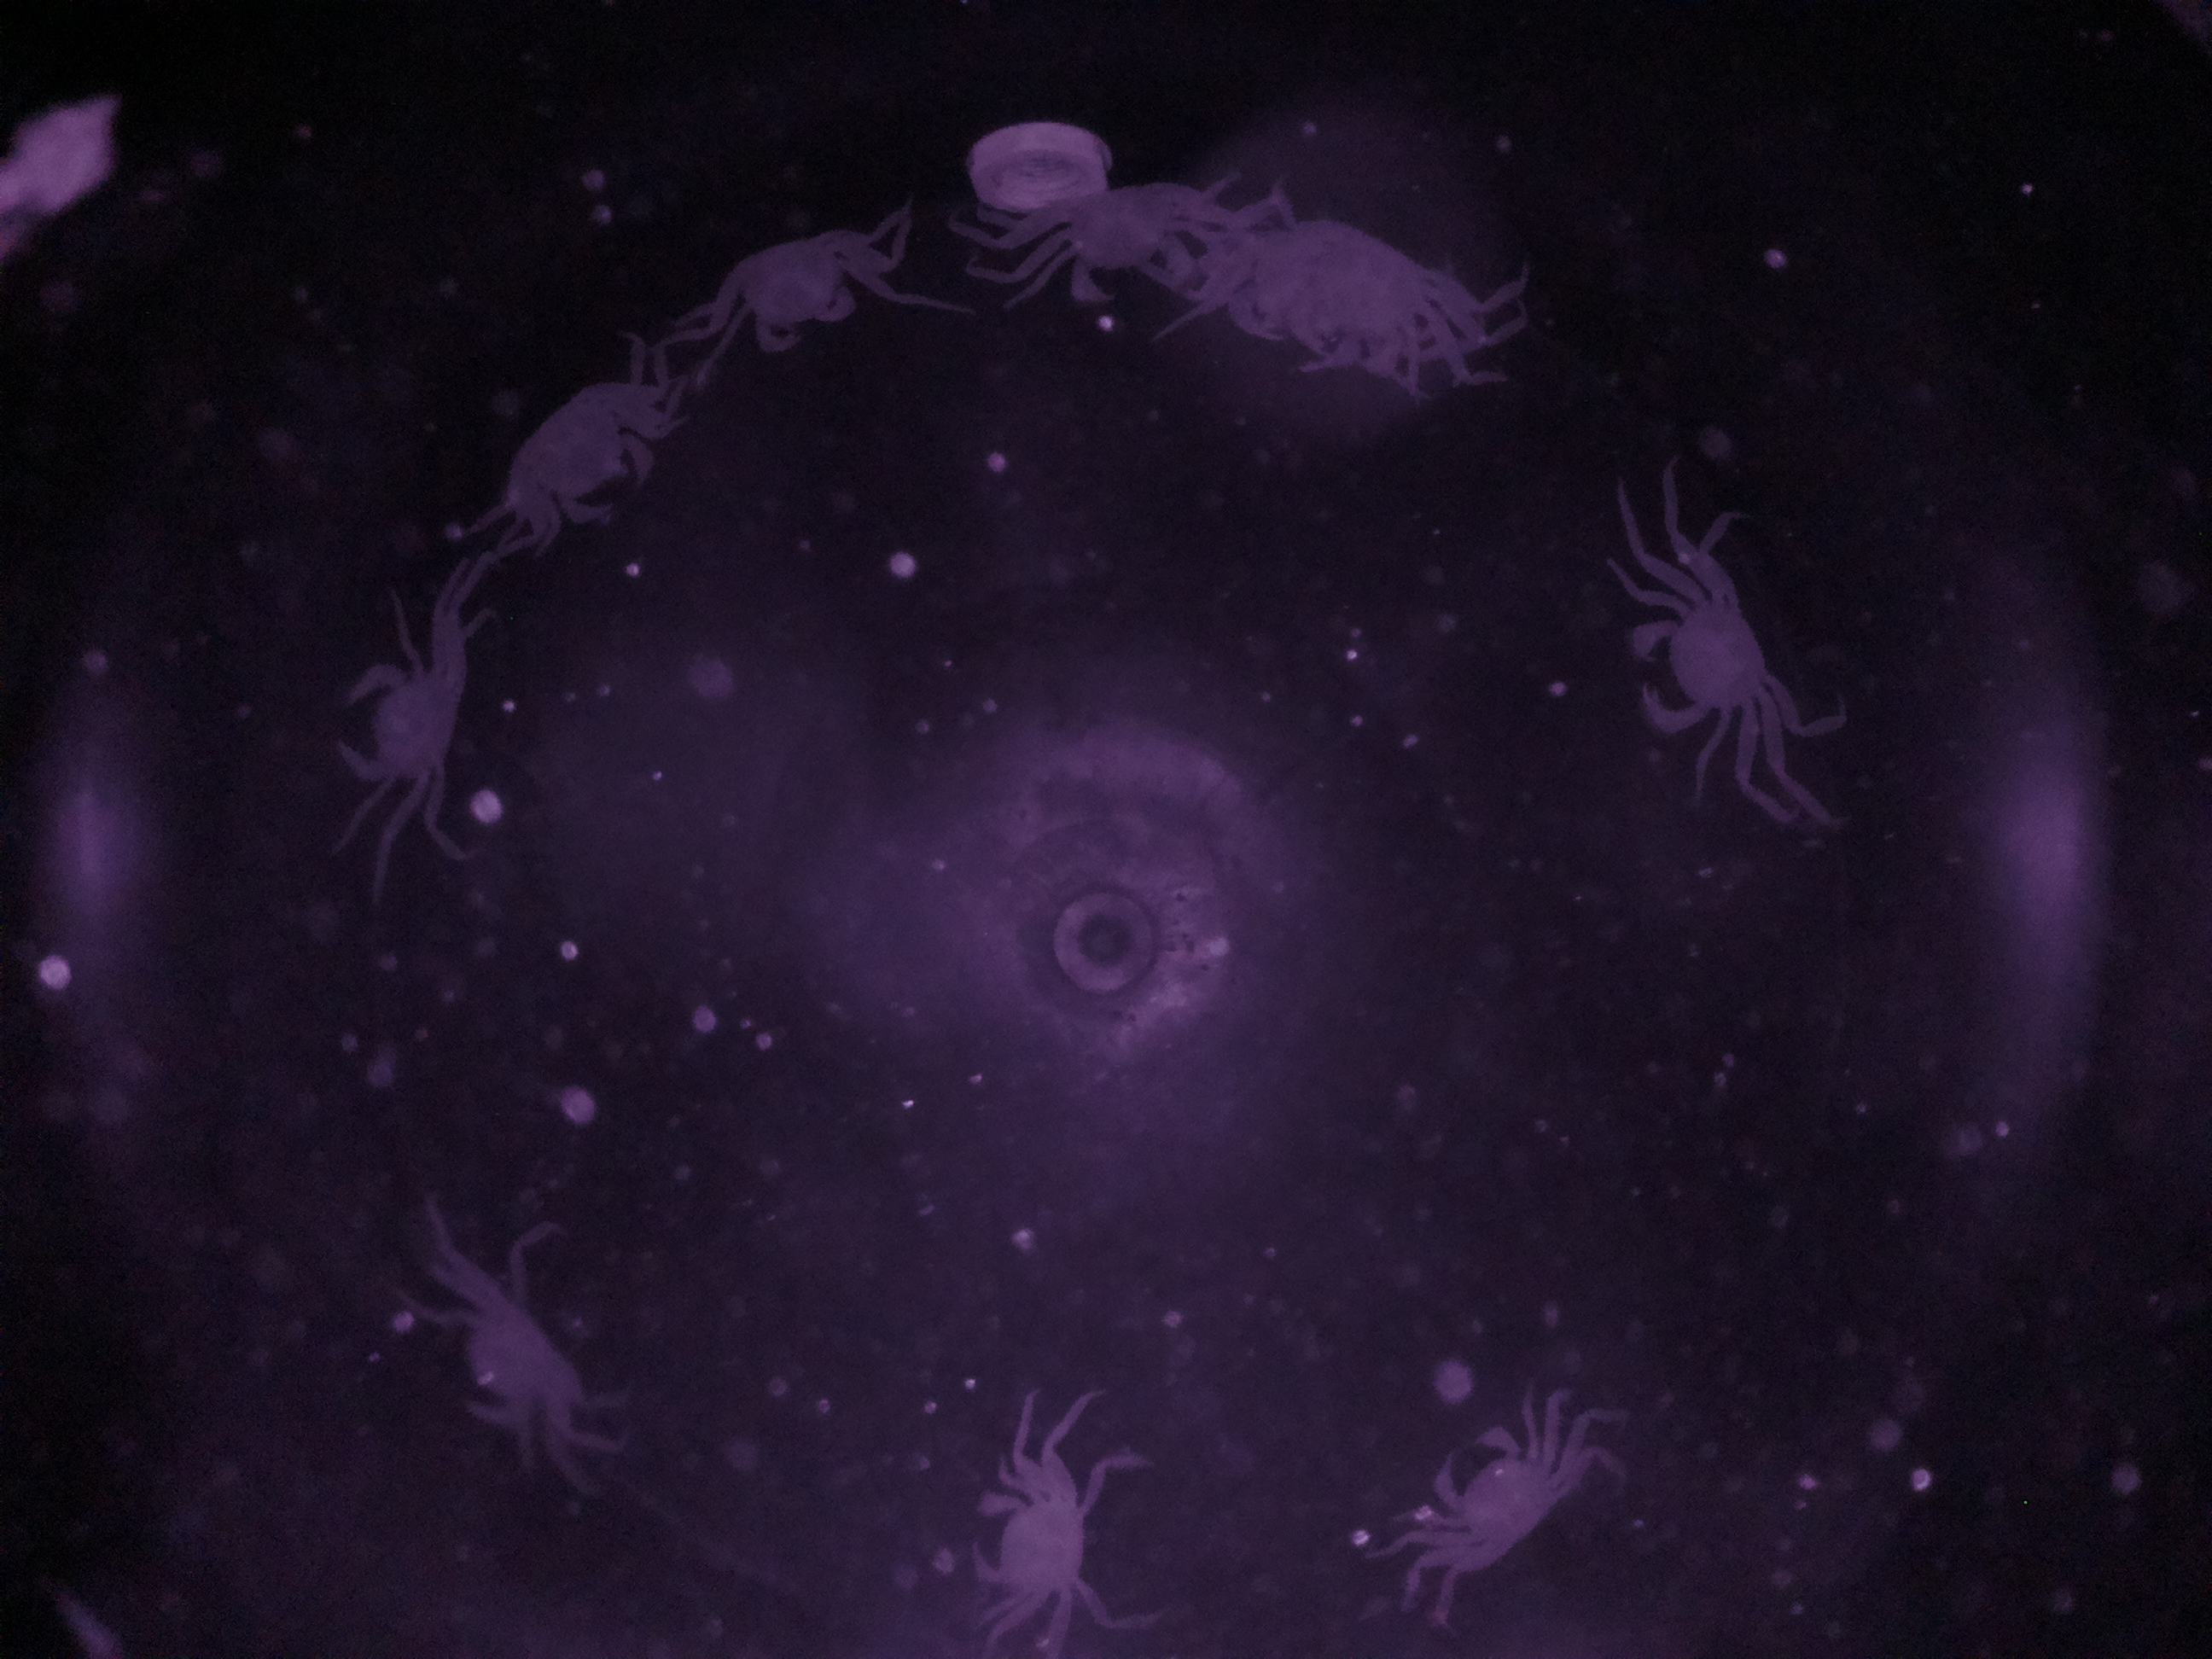Crab: (1611, 579, 1811, 784), (944, 1452, 1136, 1652), (1026, 134, 1223, 328), (1406, 1401, 1580, 1600), (329, 629, 493, 821), (707, 206, 885, 371)
